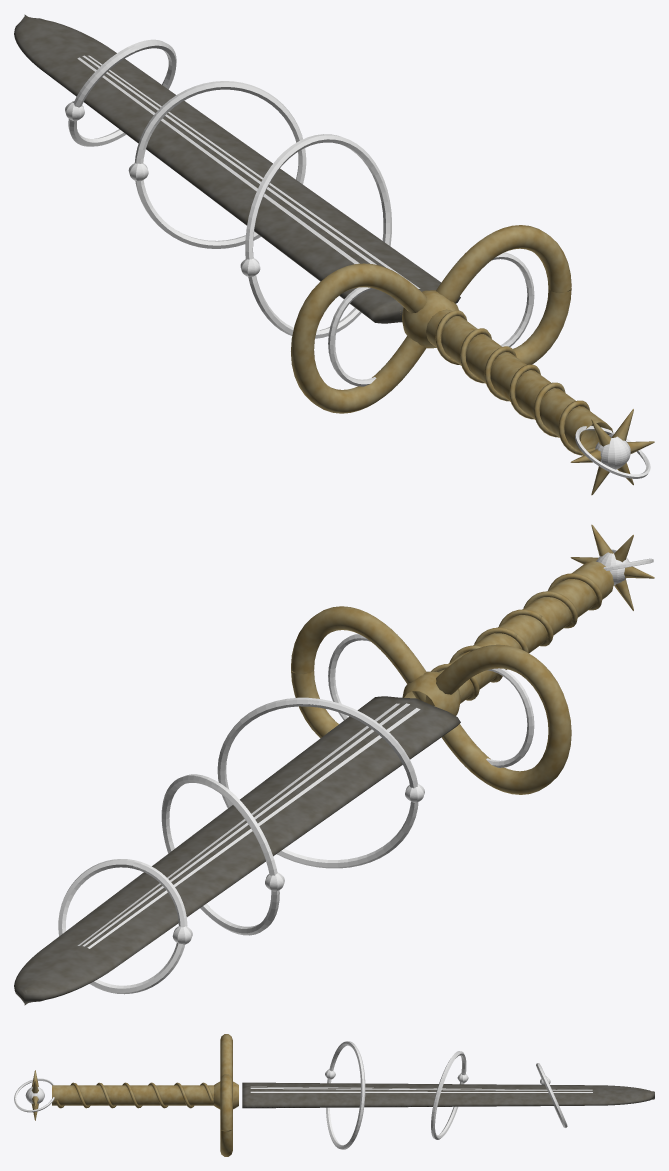
File: Sword12.fbx
3 renders of one model, top to bottom at view 1: azimuth 30°, elevation 25°; view 2: azimuth 150°, elevation 25°; view 3: azimuth 270°, elevation 25°, orthographic. The views are drawn at different scales.
Parts seen in each view (by area): view 1: Sword12_Body, Sword12_Glow_643cff, Sword12_Glow_ffaa1e, Sword12_Glow_28a0ff; view 2: Sword12_Body, Sword12_Glow_643cff, Sword12_Glow_ffaa1e, Sword12_Glow_28a0ff; view 3: Sword12_Body, Sword12_Glow_ffaa1e, Sword12_Glow_643cff, Sword12_Glow_28a0ff.
Part boxes in pixels (bbox=[...]): Sword12_Body: bbox=[14, 14, 654, 495]; Sword12_Glow_643cff: bbox=[77, 57, 534, 386]; Sword12_Glow_ffaa1e: bbox=[82, 55, 630, 469]; Sword12_Glow_28a0ff: bbox=[65, 39, 650, 478]; Sword12_Body: bbox=[14, 524, 654, 1005]; Sword12_Glow_643cff: bbox=[87, 633, 534, 948]; Sword12_Glow_ffaa1e: bbox=[83, 549, 629, 946]; Sword12_Glow_28a0ff: bbox=[58, 558, 653, 994]; Sword12_Body: bbox=[31, 1034, 654, 1156]; Sword12_Glow_ffaa1e: bbox=[25, 1041, 592, 1149]; Sword12_Glow_643cff: bbox=[251, 1051, 592, 1139]; Sword12_Glow_28a0ff: bbox=[14, 1063, 592, 1127].
Bounding box in the file's own units: 1.61 × 1.02 × 6.13.
4 materials, 1 textured.
